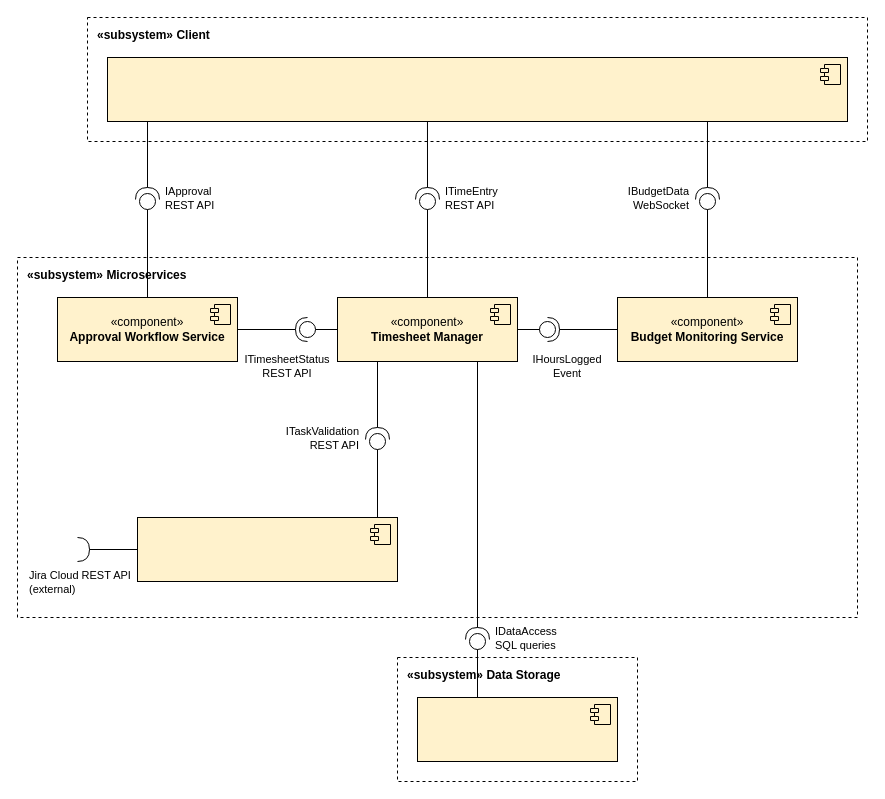
Image size: 885x799. Some labels were removed from this diagram. The shapes that lost their labels are listed below. From the top down, each one's centre as x and y in pixels, then its label:
point (477, 89): «component» Web Dashboard UI
point (267, 549): «component» Jira Integration Service
point (517, 729): «component» Timesheet Database
